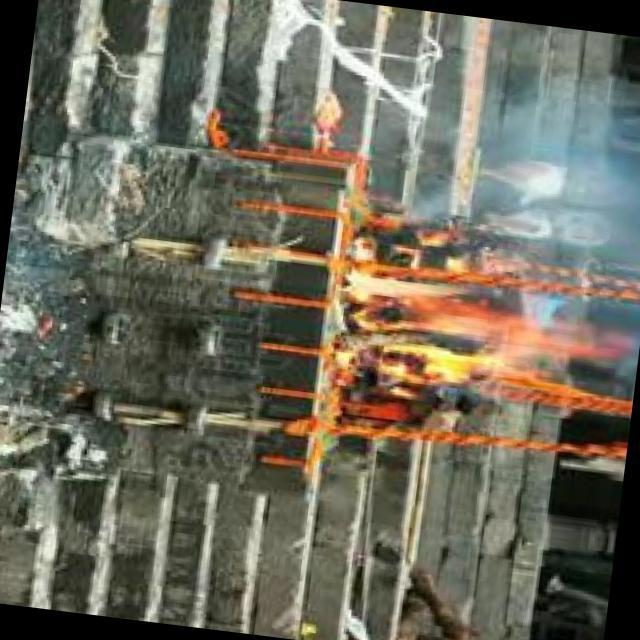Fire: (334, 249, 612, 397)
